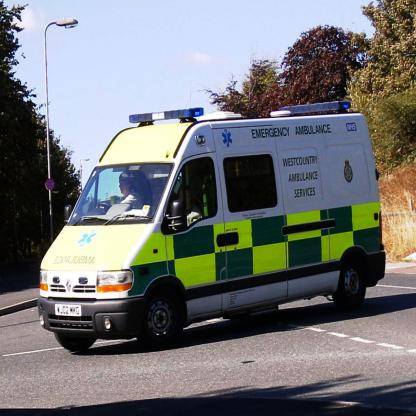Ambulance: (36, 98, 386, 347)
